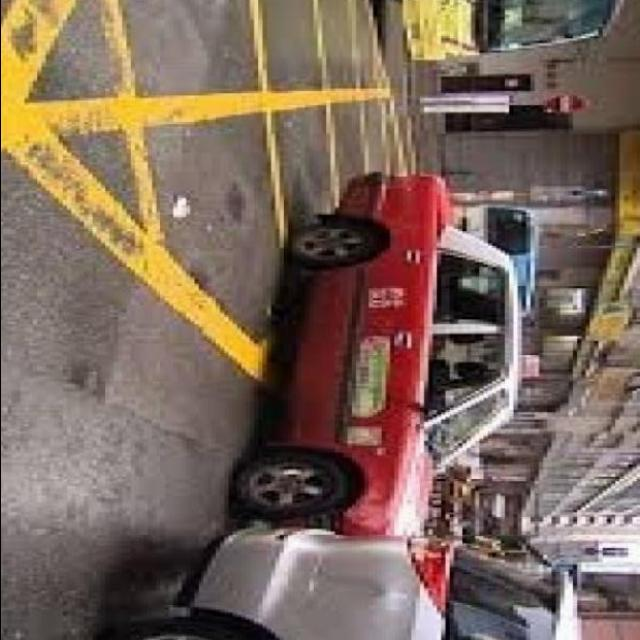accident: (242, 397, 506, 629)
